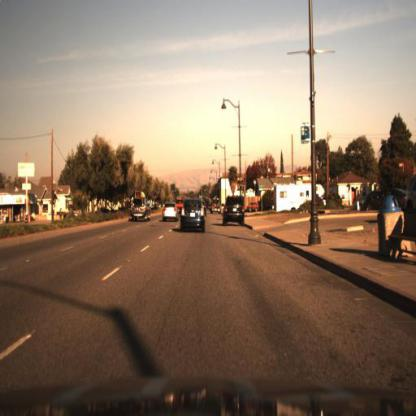car: (179, 194, 210, 244), (361, 184, 410, 214), (222, 194, 247, 234), (127, 190, 152, 228), (159, 199, 179, 228), (259, 200, 274, 222), (211, 197, 225, 219), (201, 199, 211, 222)
truck: (274, 183, 329, 214)
